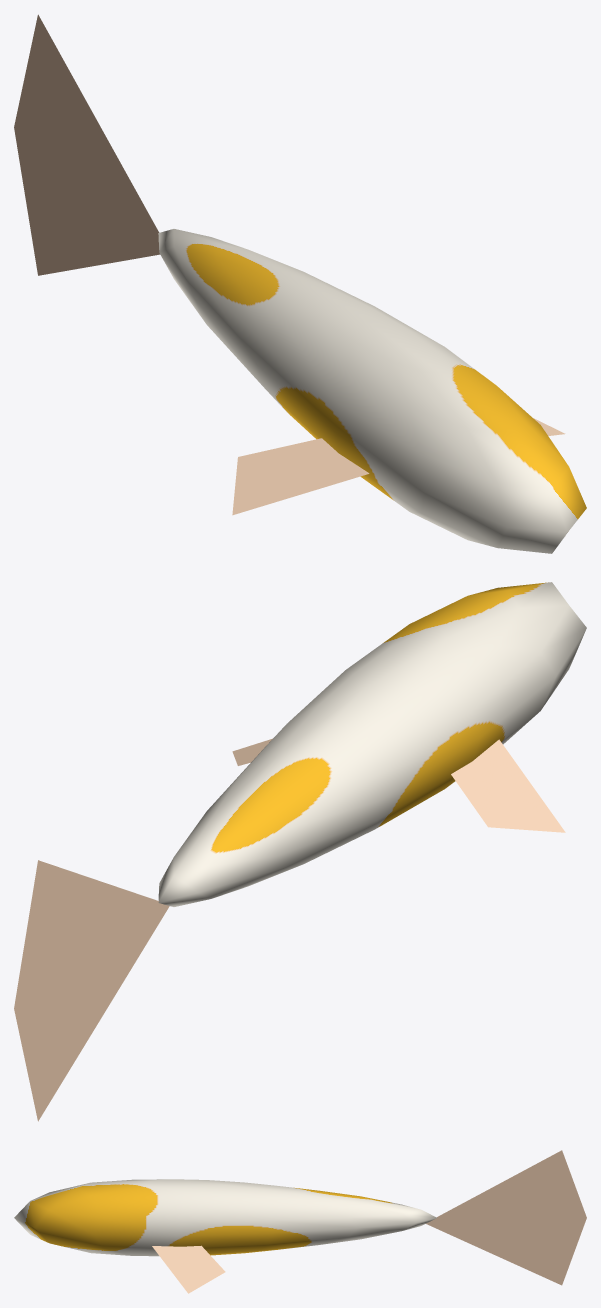
File: Koi_2.glb
3 renders of one model, top to bottom at view 1: azimuth 30°, elevation 25°; view 2: azimuth 150°, elevation 25°; view 3: azimuth 270°, elevation 25°, orthographic. The views are drawn at different scales.
Parts seen in each view (by area): view 1: Koi_2, Tail; view 2: Koi_2, Tail; view 3: Koi_2, Tail.
Boxes of the visible parts, x1,y1,x2,y2 form: Koi_2: (158, 229, 586, 553); Tail: (14, 14, 159, 275); Koi_2: (158, 582, 586, 906); Tail: (14, 860, 169, 1121); Koi_2: (14, 1179, 436, 1293); Tail: (426, 1150, 586, 1285).
Bounding box in the file's own units: 0.16 × 0.12 × 0.46.
Materials: 2 (1 with a texture image).
